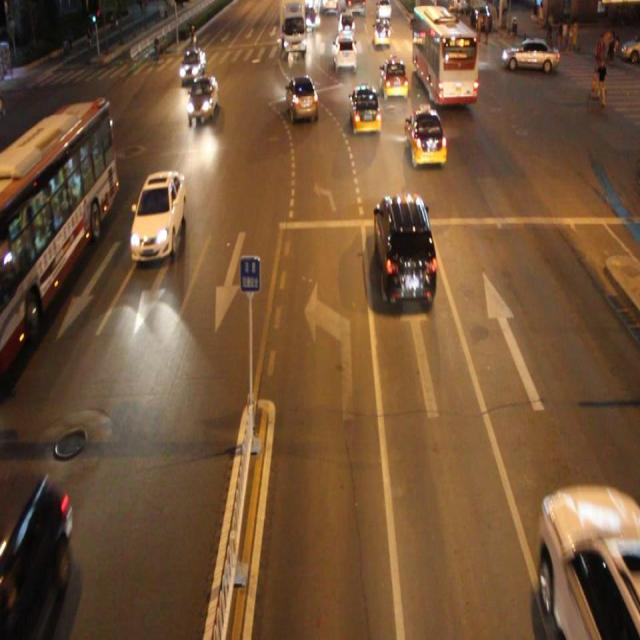car: (536, 487, 640, 640), (0, 470, 68, 640), (376, 190, 436, 304), (130, 170, 186, 263), (405, 106, 445, 170), (349, 82, 381, 136), (286, 74, 318, 125), (185, 74, 218, 122), (380, 58, 408, 98)
van: (0, 101, 116, 367), (412, 1, 477, 107)
